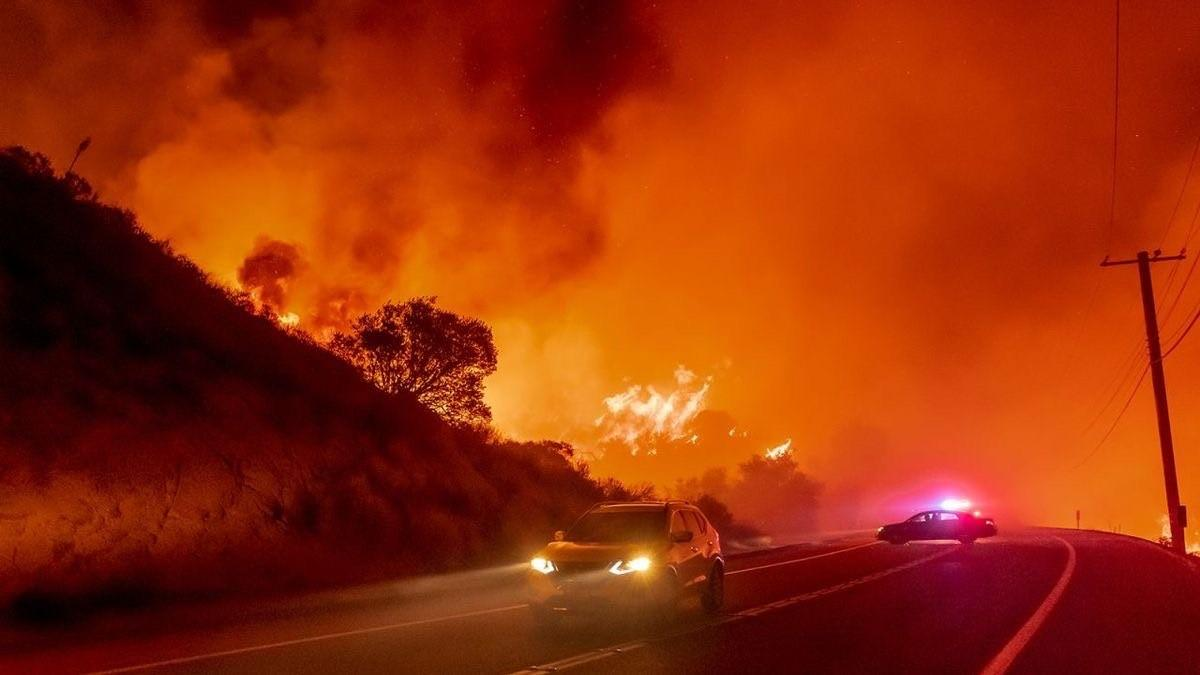fire: (578, 371, 716, 461), (264, 298, 344, 352), (746, 432, 794, 471)
smoke: (0, 0, 612, 279), (220, 240, 288, 309)
